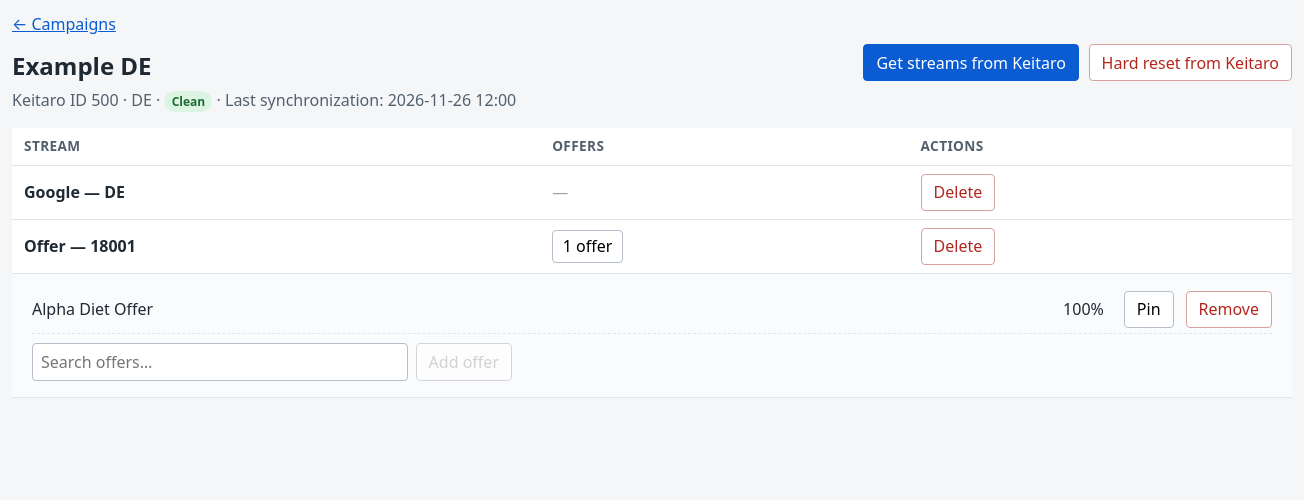
it: CampaignEditorPage — fetch, discard, and conflicts › fetches from Keitaro and shows normalization notices
Step 1. Click the button "Get streams from Keitaro" → x=971, y=63, box [864, 44, 1079, 81]
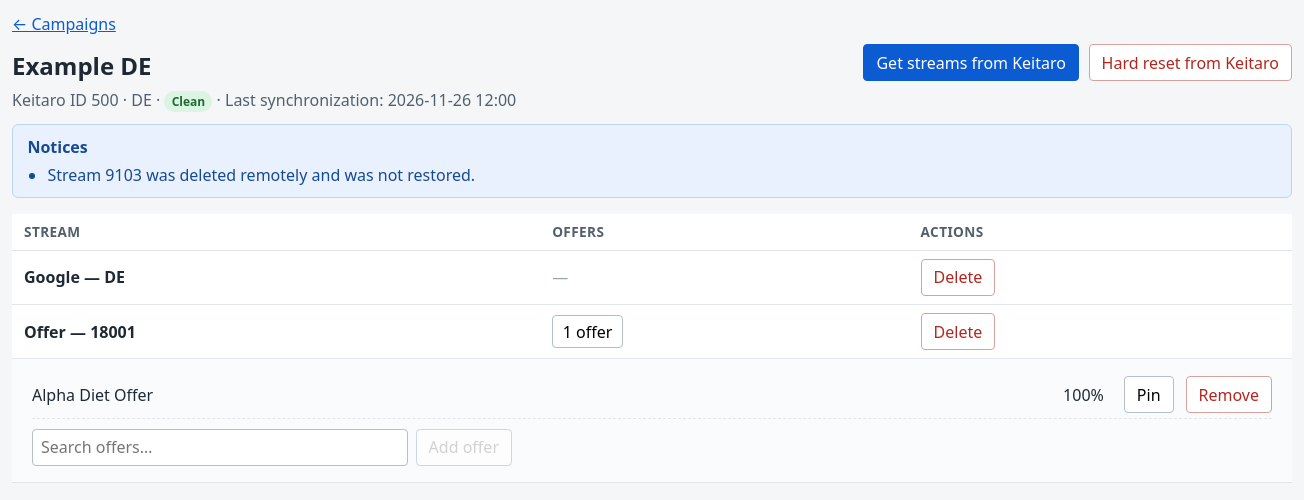
Expected: the list item "Stream 9103 was deleted remotely and was not restored." is shown, [47, 164, 475, 186]
